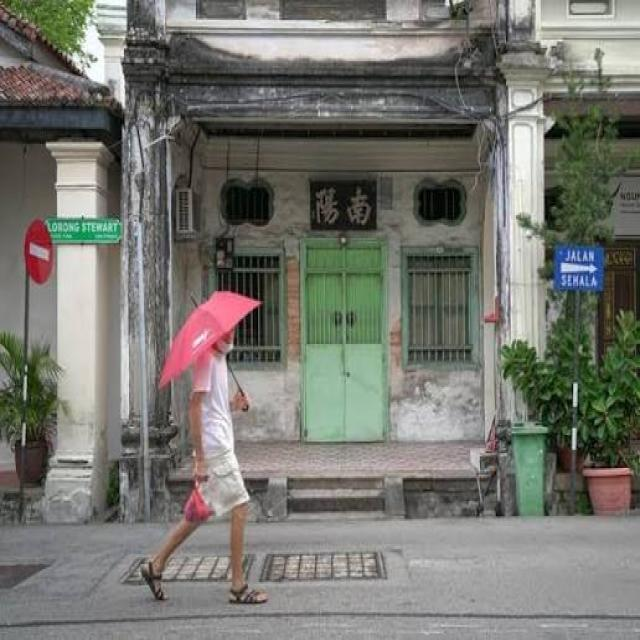Person: (129, 285, 283, 617)
